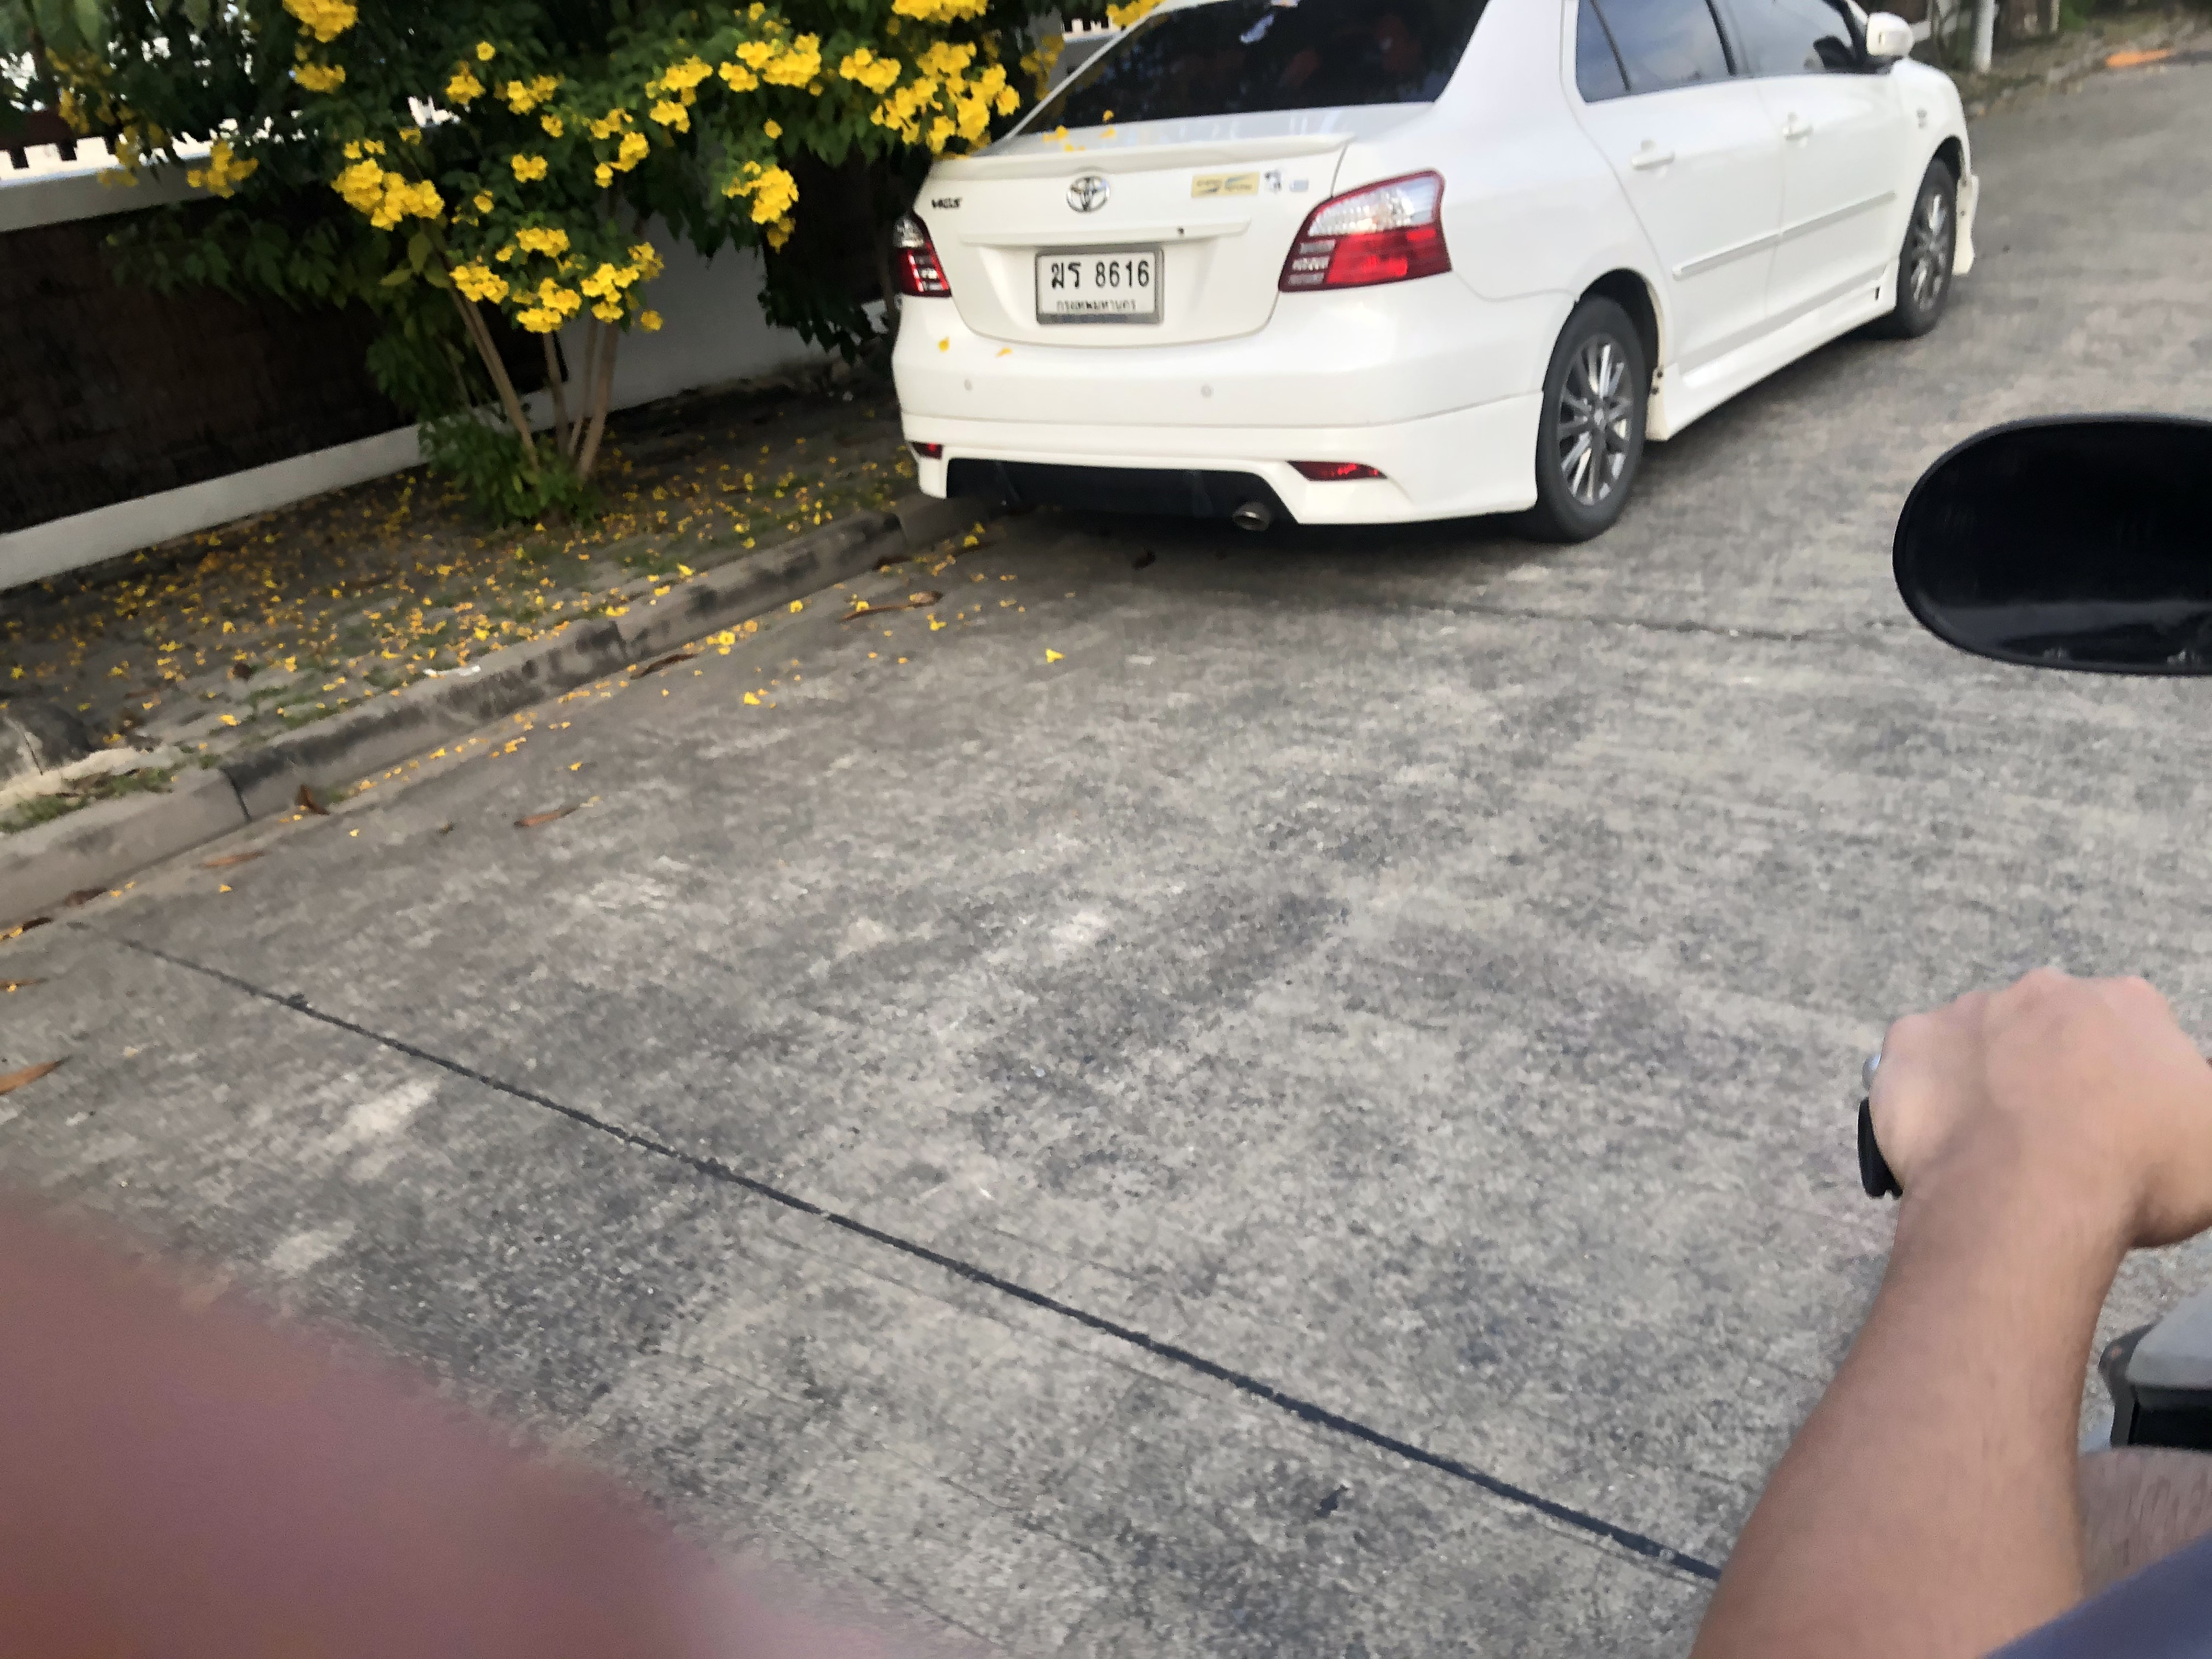in: (1038, 253, 1153, 314)
out: (1035, 247, 1167, 322)
